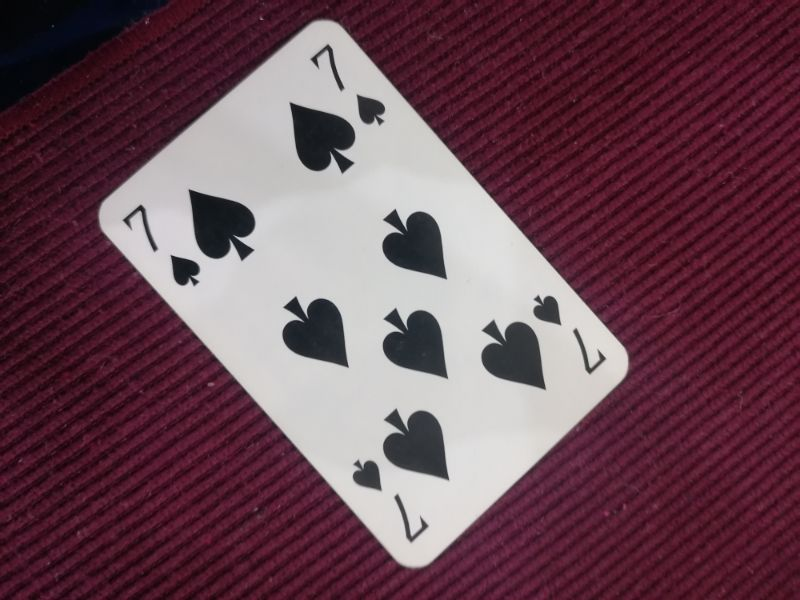7s: (122, 200, 203, 291), (309, 40, 391, 129), (351, 455, 431, 546), (529, 291, 609, 376)
